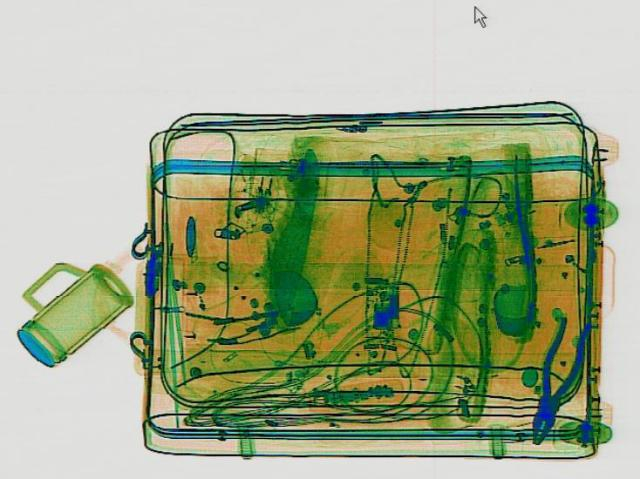Pliers: (516, 314, 596, 447)
